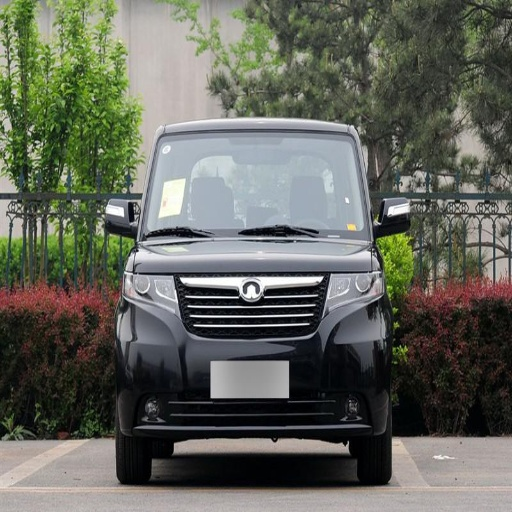front_bumper: (118, 272, 390, 435)
front_right_light: (123, 270, 174, 300)
hood: (135, 236, 375, 271)
left_mirror: (375, 197, 412, 236)
